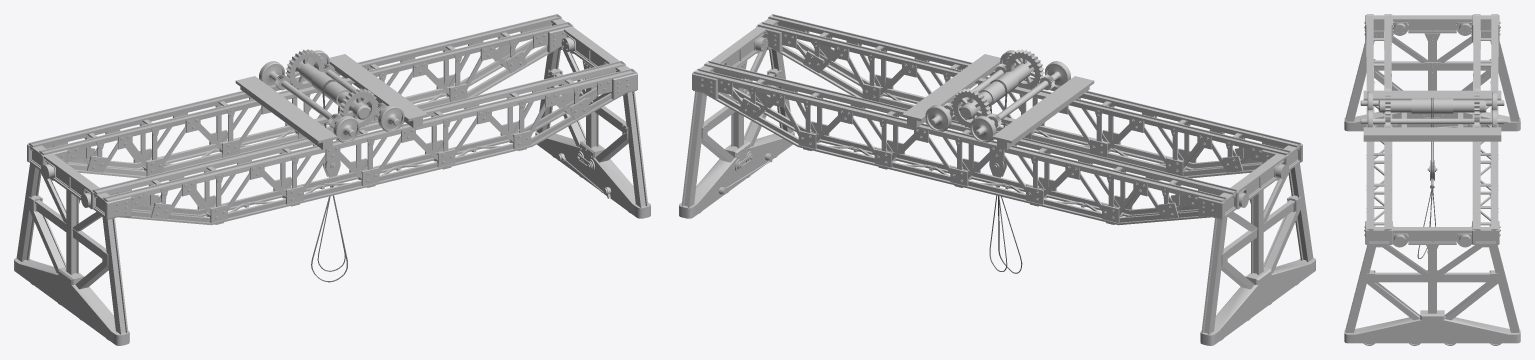
The model's file is PropCrane.FBX.
3 renders of one model, left to right at view 1: azimuth 30°, elevation 25°; view 2: azimuth 150°, elevation 25°; view 3: azimuth 270°, elevation 25°, orthographic. The views are drawn at different scales.
Parts seen in each view (by area): view 1: PropCranes001, PropCrane, PropCranes, PropCraneds, PropCranes011, PropCranerope; view 2: PropCranes, PropCrane, PropCranes001, PropCraneds, PropCranes011, PropCranerope; view 3: PropCrane, PropCraneds, PropCranes, PropCranes001, PropCranes011, PropCranerope, PropCrane2.
Boxes of the visible parts, x1,y1,x2,y2 form: PropCranes001: (91, 60, 637, 225); PropCrane: (14, 18, 650, 345); PropCranes: (27, 14, 573, 178); PropCraneds: (235, 54, 427, 149); PropCranes011: (259, 49, 404, 142); PropCranerope: (311, 79, 347, 282); PropCranes: (692, 60, 1238, 225); PropCrane: (679, 18, 1315, 345); PropCranes001: (756, 14, 1302, 178); PropCraneds: (902, 54, 1094, 149); PropCranes011: (925, 49, 1070, 142); PropCranerope: (989, 79, 1022, 273); PropCrane: (1344, 15, 1520, 343); PropCraneds: (1363, 90, 1501, 141); PropCranes: (1472, 14, 1499, 244); PropCranes001: (1365, 14, 1392, 244); PropCranes011: (1360, 88, 1504, 127); PropCranerope: (1417, 97, 1435, 258); PropCrane2: (1363, 27, 1501, 345).
Size of the model in its own units: 1580 by 579 by 541.
